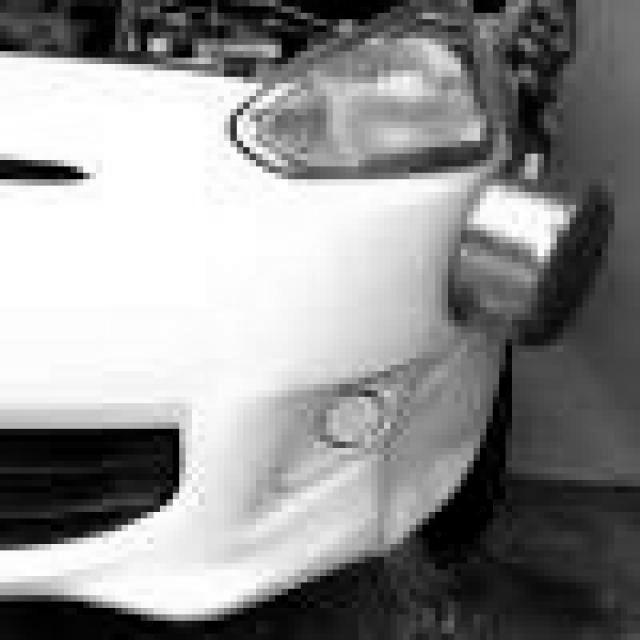front-bumper-dent: (0, 320, 512, 621)
